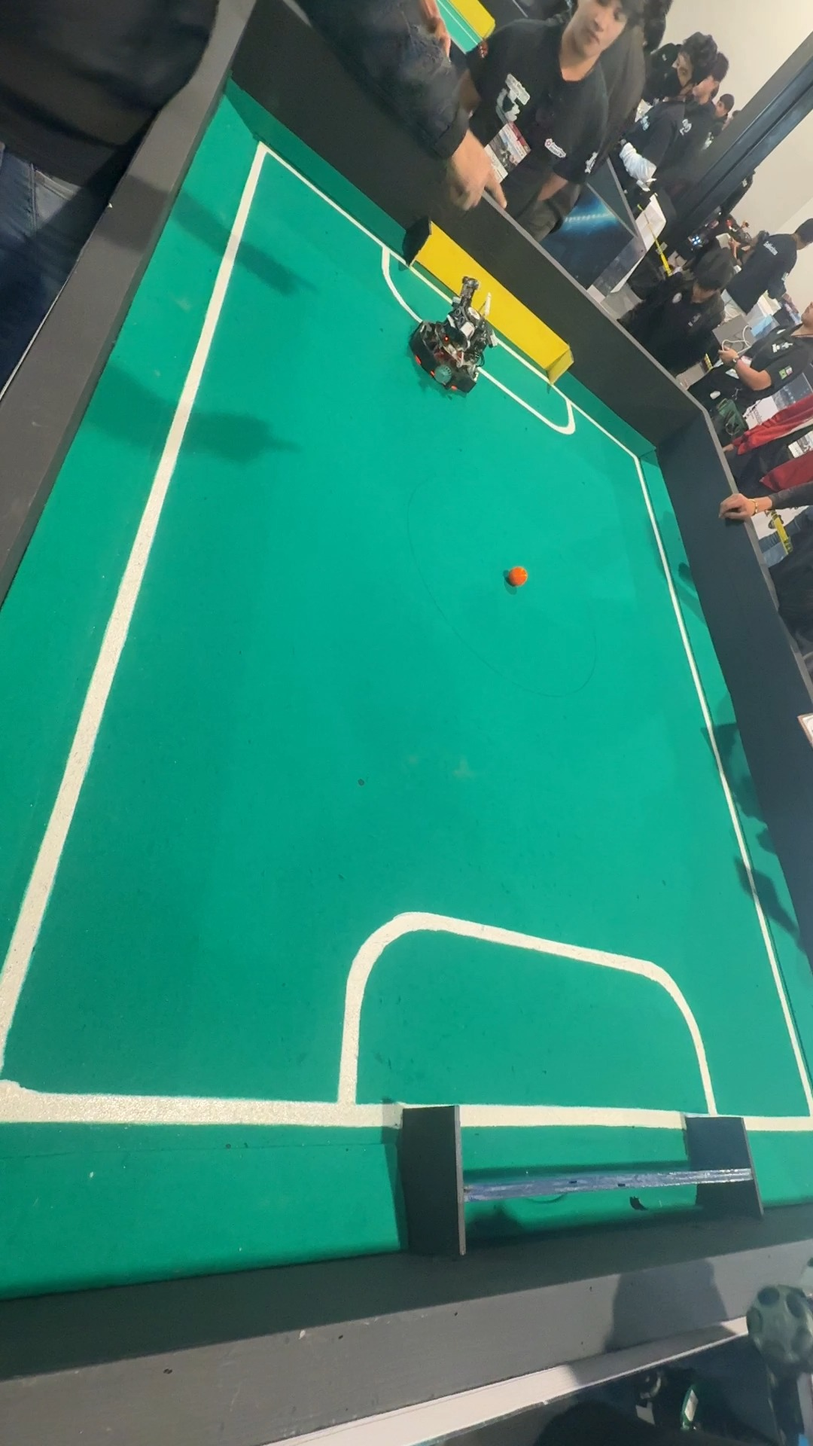Robot: (401, 264, 498, 407)
pelota: (504, 568, 527, 590)
